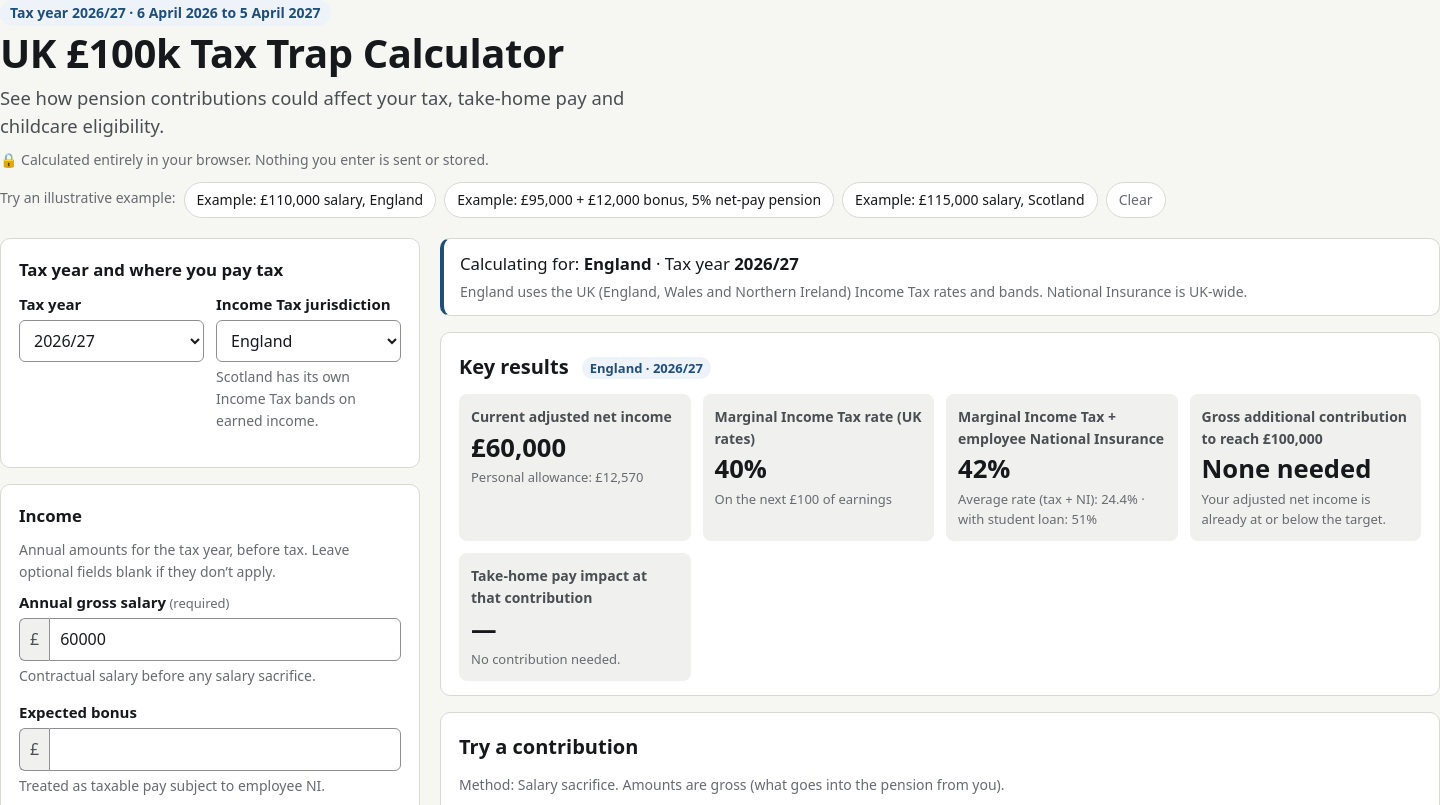
Test case: calculator UI › audit F4: Plan 5 in 2025/26 shows a visible error and hides results
Expected: the text "£60,000" is shown, [471,430,566,464]
Select "2025/26" in the dropdown labelled "Tax year" at (112, 341), box [19,320,204,362]
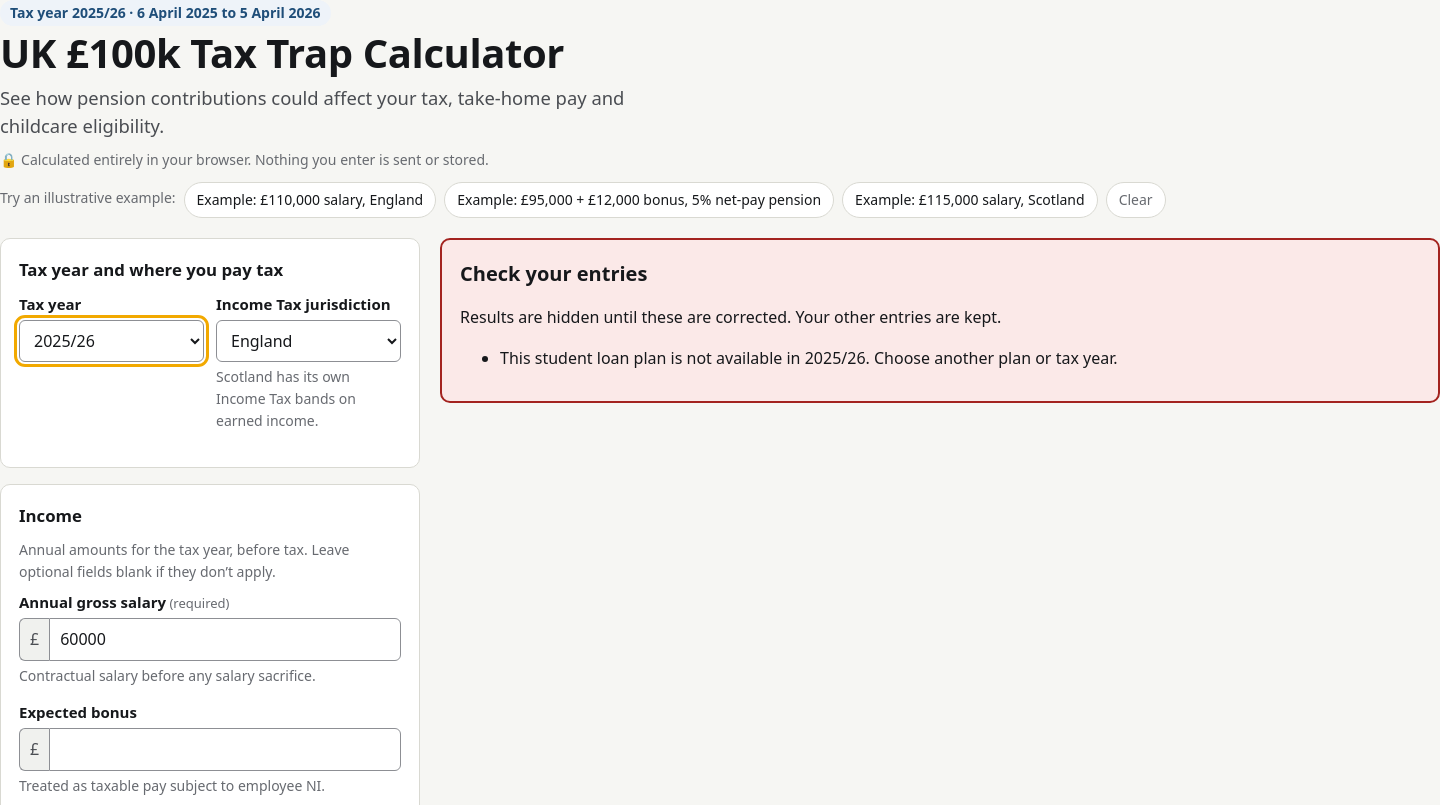
Now the text with test id "current-ani" is gone
